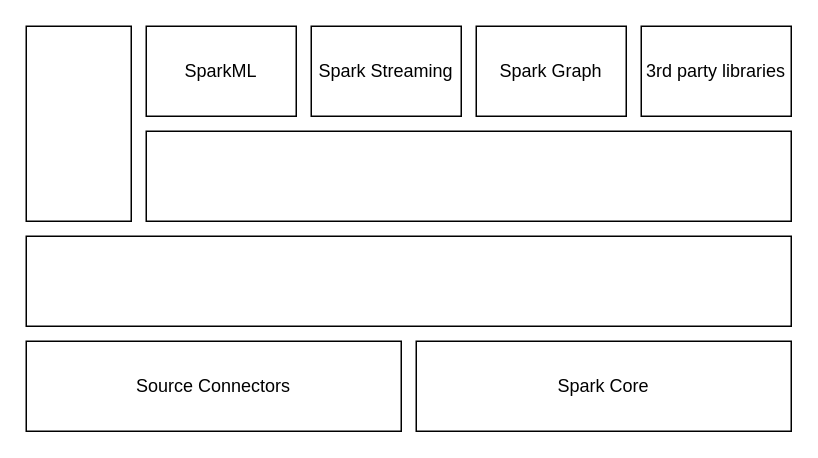
The diagram is 818 pixels wide and 458 high, and some of its shapes have lost their labels. Here are the shapes that lost their labels. From the top down, the centre of each, then its label:
the point at 78,123: SQL
the point at 468,175: Spark Session / Dataframe / Datasets APIs
the point at 408,280: Catalyst Optimization & Tungsten Execution
